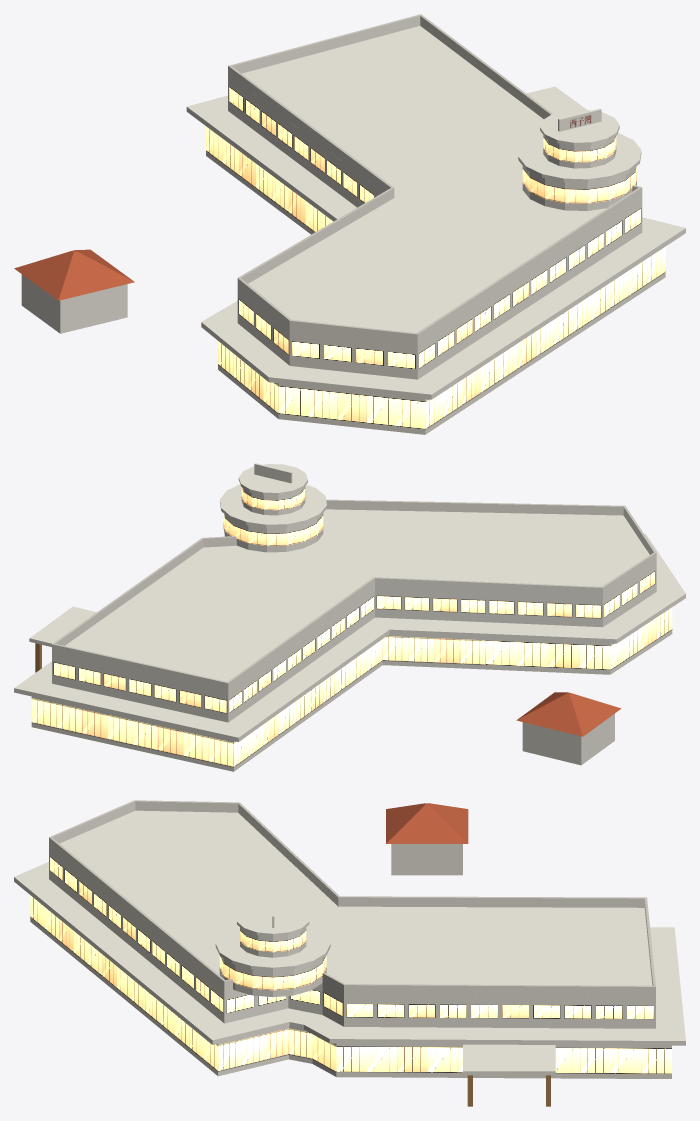
File: beach-house.glb
3 renders of one model, top to bottom at view 1: azimuth 30°, elevation 25°; view 2: azimuth 150°, elevation 25°; view 3: azimuth 270°, elevation 25°, orthographic. The views are drawn at different scales.
Visible parts, largest first — view 1: beach-house.001; view 2: beach-house.001; view 3: beach-house.001.
Part boxes in pixels (left/top/right/bottom): beach-house.001: left=14, top=14, right=685, bottom=434; beach-house.001: left=14, top=463, right=685, bottom=771; beach-house.001: left=14, top=800, right=685, bottom=1106.
Bounding box in the file's own units: 61.3 × 15.45 × 65.43.
Materials: 1 (1 with a texture image).
